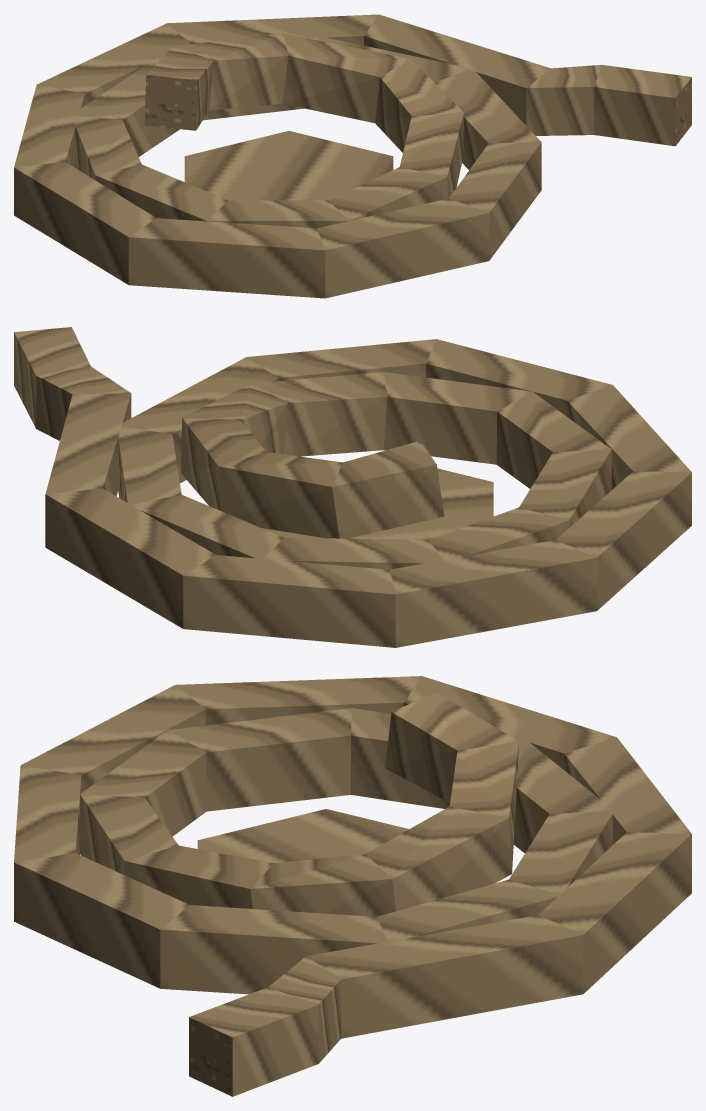
The model's file is SM_CV_RopeCoilFloor.fbx.
The picture shows the model from 3 angles, top to bottom: view 1: azimuth 30°, elevation 25°; view 2: azimuth 150°, elevation 25°; view 3: azimuth 270°, elevation 25°; orthographic projection. The views are drawn at different scales.
Visible parts, largest first — view 1: CV_RopeCoilFloor_Rope, CV_RopeCoilFloor_Fill; view 2: CV_RopeCoilFloor_Rope, CV_RopeCoilFloor_Fill; view 3: CV_RopeCoilFloor_Rope, CV_RopeCoilFloor_Fill.
Part boxes in pixels (<box>): CV_RopeCoilFloor_Rope: <box>14,14,691,298</box>; CV_RopeCoilFloor_Fill: <box>184,131,393,200</box>; CV_RopeCoilFloor_Rope: <box>14,327,691,647</box>; CV_RopeCoilFloor_Fill: <box>262,461,493,539</box>; CV_RopeCoilFloor_Rope: <box>14,676,691,1096</box>; CV_RopeCoilFloor_Fill: <box>197,809,408,863</box>.
Size of the model in its own units: 0.5183 by 0.0844 by 0.4107.
